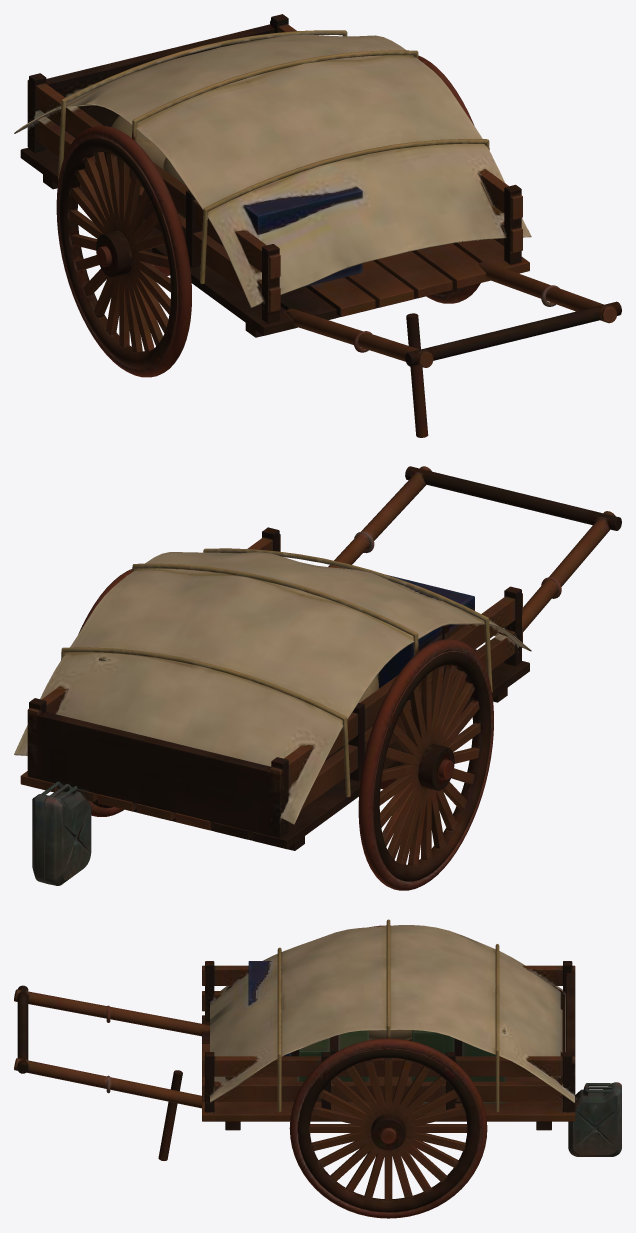
The model's file is caravan_cart.glb.
3 views of the same model, one above another, from view 1: azimuth 30°, elevation 25°; view 2: azimuth 150°, elevation 25°; view 3: azimuth 270°, elevation 25° (orthographic). The views are drawn at different scales.
Visible parts, largest first — view 1: caravan_cart; view 2: caravan_cart; view 3: caravan_cart.
Part boxes in pixels (left/top/right/bottom): caravan_cart: left=14, top=14, right=621, bottom=437; caravan_cart: left=14, top=466, right=621, bottom=890; caravan_cart: left=14, top=919, right=621, bottom=1218.
Bounding box in the file's own units: 1.98 × 1.45 × 3.91.
1 material, 1 textured.
